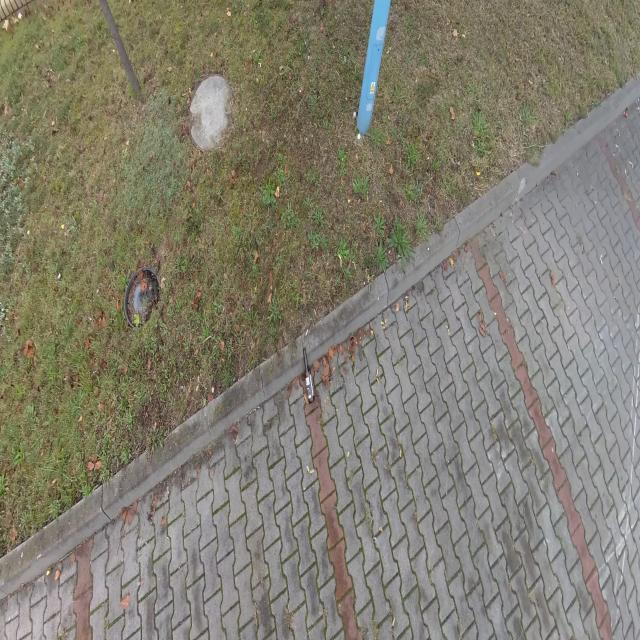rubbish: (303, 347, 314, 402)
